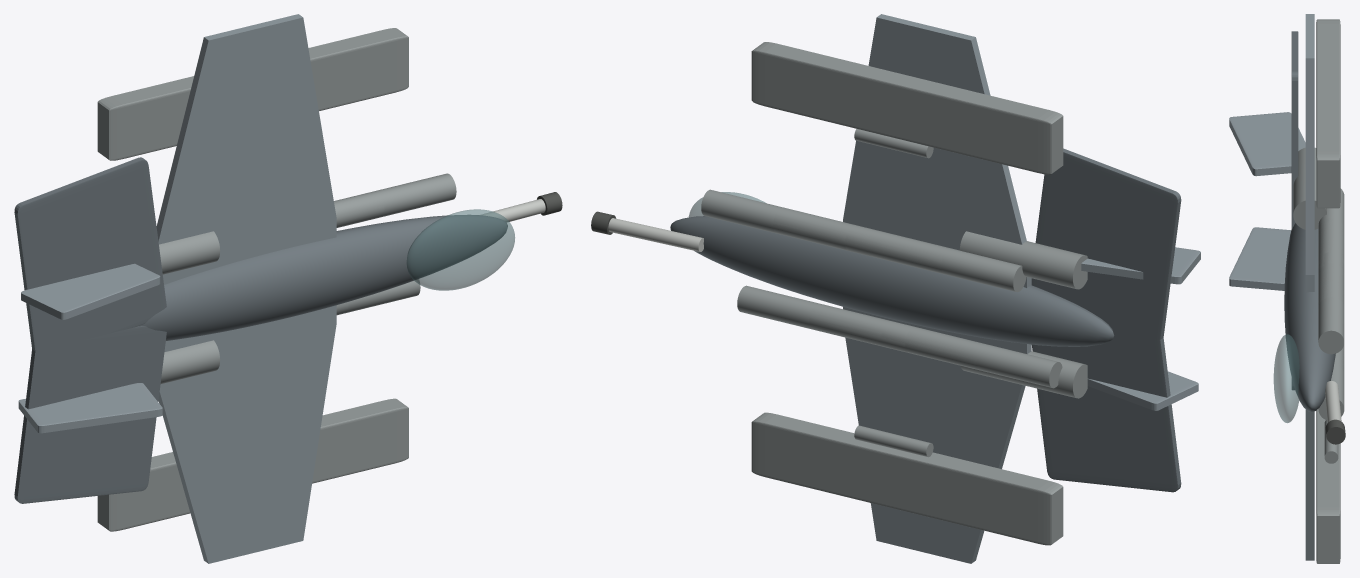
File: s-u30-specter-aerial-artillery-lod1.glb
3 renders of one model, left to right at view 1: azimuth 30°, elevation 25°; view 2: azimuth 150°, elevation 25°; view 3: azimuth 270°, elevation 25°, orthographic. The views are drawn at different scales.
Visible parts, largest first — view 1: combat_main_wing, combat_fuselage, combat_tailplane_1, combat_tailplane_-1, artillery_pod_1, artillery_pod_-1, combat_canopy, combat_fin_-1, combat_fin_1, aerial_launcher_5, combat_engine_1, combat_engine_0 (+3 smaller); view 2: combat_main_wing, combat_fuselage, artillery_pod_1, artillery_pod_-1, combat_tailplane_1, combat_tailplane_-1, aerial_launcher_1, aerial_launcher_0, aerial_launcher_4, combat_engine_1, aerial_launcher_3, aerial_launcher_5 (+7 smaller); view 3: combat_fuselage, artillery_pod_1, combat_main_wing, combat_fin_1, artillery_pod_-1, combat_fin_-1, aerial_launcher_5, combat_canopy, aerial_launcher_3, combat_tailplane_1, combat_engine_1, aerial_launcher_1 (+4 smaller).
Boxes of the visible parts, x1,y1,x2,y2 form: combat_main_wing: (156,14,336,563); combat_fuselage: (139,215,507,340); combat_tailplane_1: (14,157,166,354); combat_tailplane_-1: (14,326,166,503); artillery_pod_1: (97,28,408,160); artillery_pod_-1: (97,398,408,531); combat_canopy: (406,209,514,290); combat_fin_-1: (18,383,162,433); combat_fin_1: (21,263,160,319); aerial_launcher_5: (334,173,456,227); combat_engine_1: (159,231,220,274); combat_engine_0: (160,340,220,383); combat_main_wing: (843,14,1031,563); combat_fuselage: (670,216,1114,346); artillery_pod_1: (751,42,1063,174); artillery_pod_-1: (751,412,1063,545); combat_tailplane_1: (1031,148,1181,342); combat_tailplane_-1: (1032,328,1181,492); aerial_launcher_1: (845,225,1026,292); aerial_launcher_0: (881,321,1062,388); aerial_launcher_4: (737,285,909,352); combat_engine_1: (959,231,1087,289); aerial_launcher_3: (773,207,948,272); aerial_launcher_5: (701,189,877,256); combat_fuselage: (1284,223,1335,412); artillery_pod_1: (1316,19,1340,208); combat_main_wing: (1305,14,1314,560); combat_fin_1: (1229,112,1305,176); artillery_pod_-1: (1316,409,1340,563); combat_fin_-1: (1229,227,1291,290); aerial_launcher_5: (1318,252,1344,354); combat_canopy: (1273,334,1299,422); aerial_launcher_3: (1318,218,1344,307); combat_tailplane_1: (1291,31,1298,229); combat_engine_1: (1293,147,1326,229); aerial_launcher_1: (1318,188,1344,274).
Size of what is drawn, in the model's own units: 15.17 by 13.48 by 2.83.
